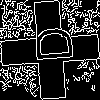D: (25, 25, 74, 64)
